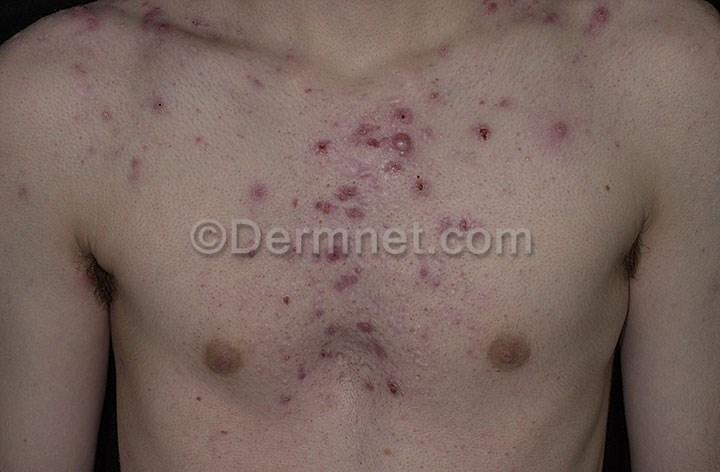Acne: (282, 94, 450, 400), (133, 0, 180, 44), (543, 105, 581, 151), (578, 1, 615, 40)
